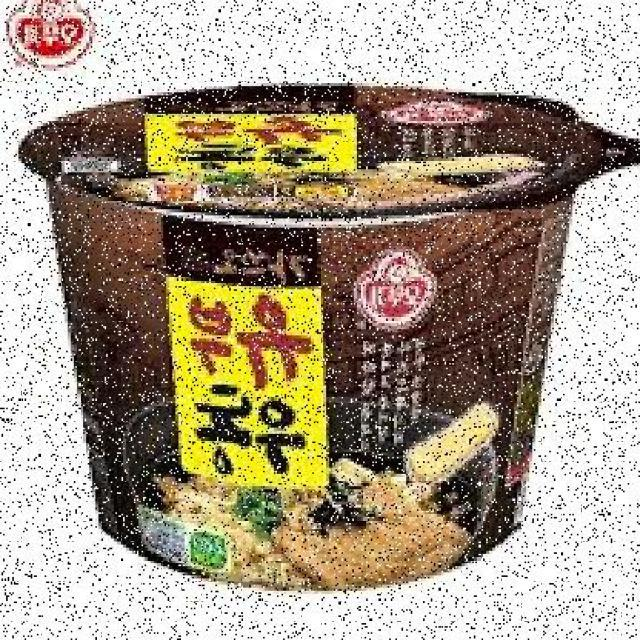Miscellaneous: (11, 77, 628, 574)
